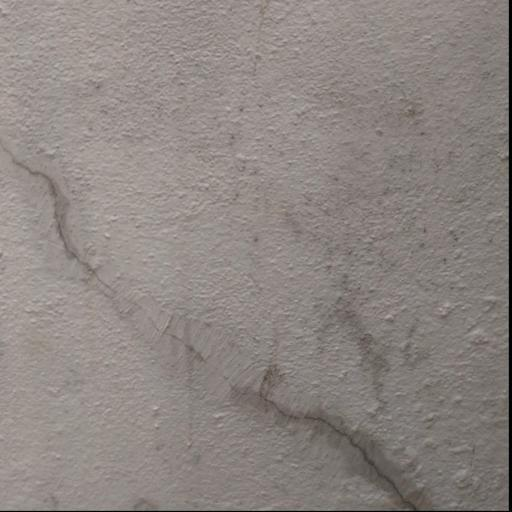minor_crack: (3, 135, 438, 512)
